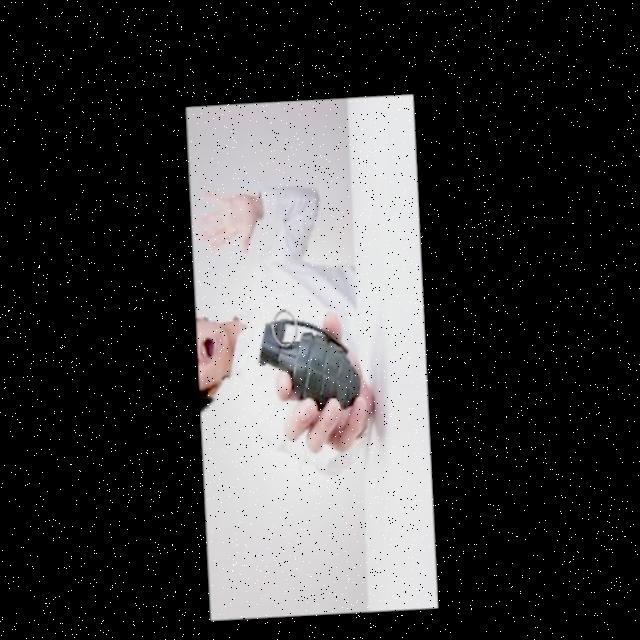grenade: (251, 288, 385, 447)
